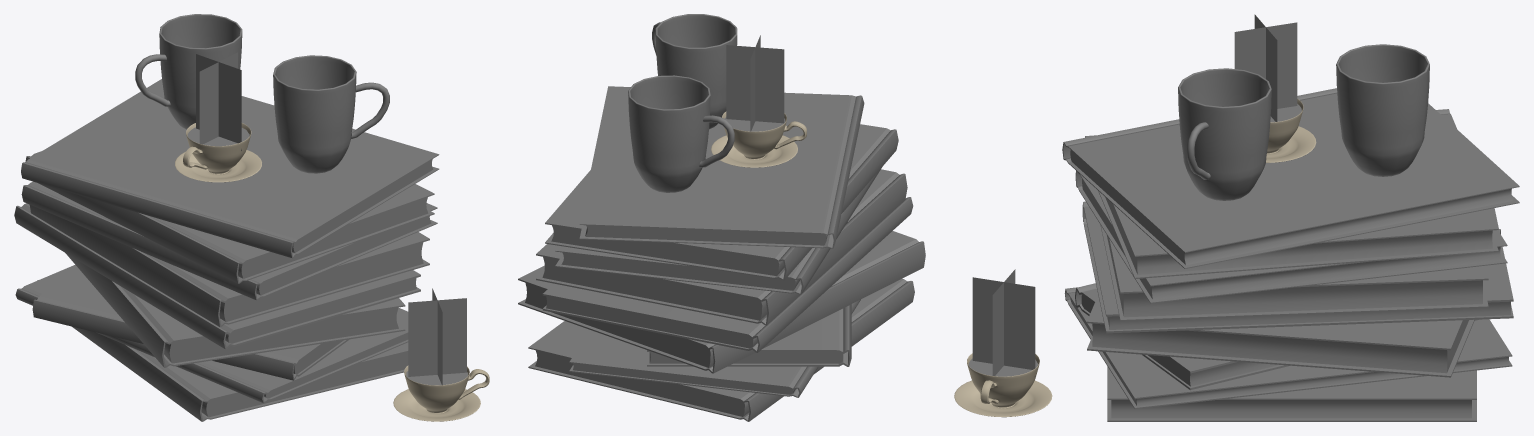
Rendered from Book_And_Coffe_Cup.fbx.
3 renders of one model, left to right at view 1: azimuth 30°, elevation 25°; view 2: azimuth 150°, elevation 25°; view 3: azimuth 270°, elevation 25°, orthographic. The views are drawn at different scales.
Visible parts, largest first — view 1: Line010, Line450, Line003, Line007, Line009, Line006, Line439, Line008, Line002, Line005, Line004, Plane031 (+20 smaller); view 2: Line010, Line439, Line003, Line005, Line009, Line007, Line004, Line450, Line002, Box006, Plane029, Box008 (+14 smaller); view 3: Line010, Line439, Line450, Box004, Box006, Line002, Line005, Box003, Box008, Line004, Box009, Line009 (+18 smaller).
Boxes of the visible parts, box(x1,y1,x2,y2) form: Line010: box(21, 79, 439, 257); Line450: box(273, 55, 356, 173); Line003: box(14, 203, 420, 349); Line007: box(29, 205, 429, 327); Line009: box(25, 151, 434, 283); Line006: box(32, 268, 349, 380); Line439: box(159, 14, 242, 129); Line008: box(21, 181, 437, 300); Line002: box(15, 265, 408, 403); Line005: box(65, 253, 405, 367); Line004: box(37, 280, 408, 421); Plane031: box(408, 298, 466, 376); Line010: box(579, 86, 864, 248); Line439: box(628, 75, 710, 192); Line003: box(542, 197, 913, 352); Line005: box(518, 231, 925, 373); Line009: box(545, 124, 898, 280); Line007: box(536, 169, 907, 325); Line004: box(528, 278, 914, 421); Line450: box(655, 14, 737, 129); Line002: box(569, 299, 860, 397); Box006: box(542, 257, 767, 320); Plane029: box(726, 45, 784, 123); Box008: box(551, 225, 784, 275); Line010: box(1062, 88, 1519, 268); Line439: box(1336, 44, 1429, 176); Line450: box(1178, 68, 1271, 200); Box004: box(1092, 320, 1468, 373); Box006: box(1107, 235, 1482, 317); Line002: box(1064, 287, 1512, 408); Line005: box(1087, 229, 1500, 377); Box003: box(1111, 400, 1471, 418); Box008: box(1105, 197, 1492, 274); Line004: box(1107, 366, 1476, 421); Box009: box(1070, 150, 1512, 264); Line009: box(1085, 109, 1498, 278).
Size of the model in its own units: 15.81 by 13.32 by 21.21.
